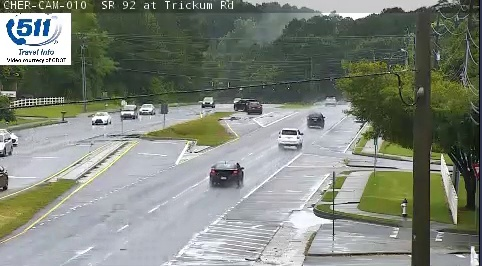car: (210, 161, 242, 184), (277, 129, 302, 146), (307, 112, 324, 127)
